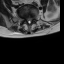CCS_normal: (28, 15, 30, 25)
LFS_stenosis: (32, 15, 34, 21)
LLS_normal: (30, 15, 32, 24)
RFS_severe_stenosis: (24, 16, 26, 22)
RLS_normal: (26, 16, 28, 23)
